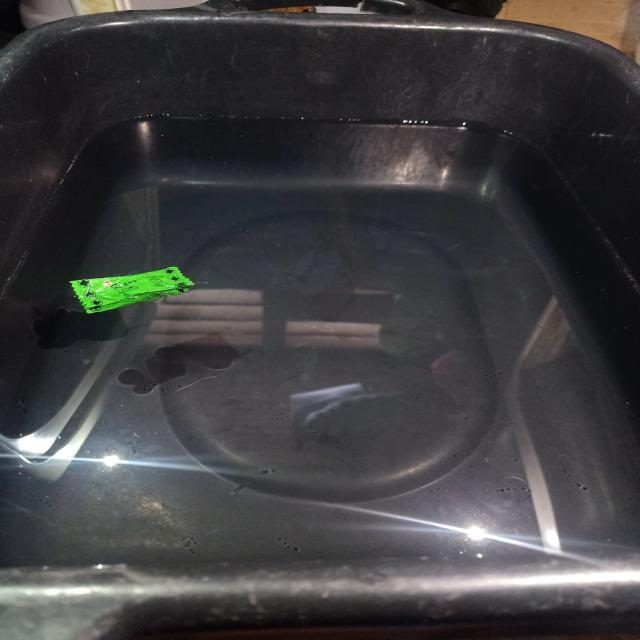Plastic Wrapper: (69, 256, 203, 318)
